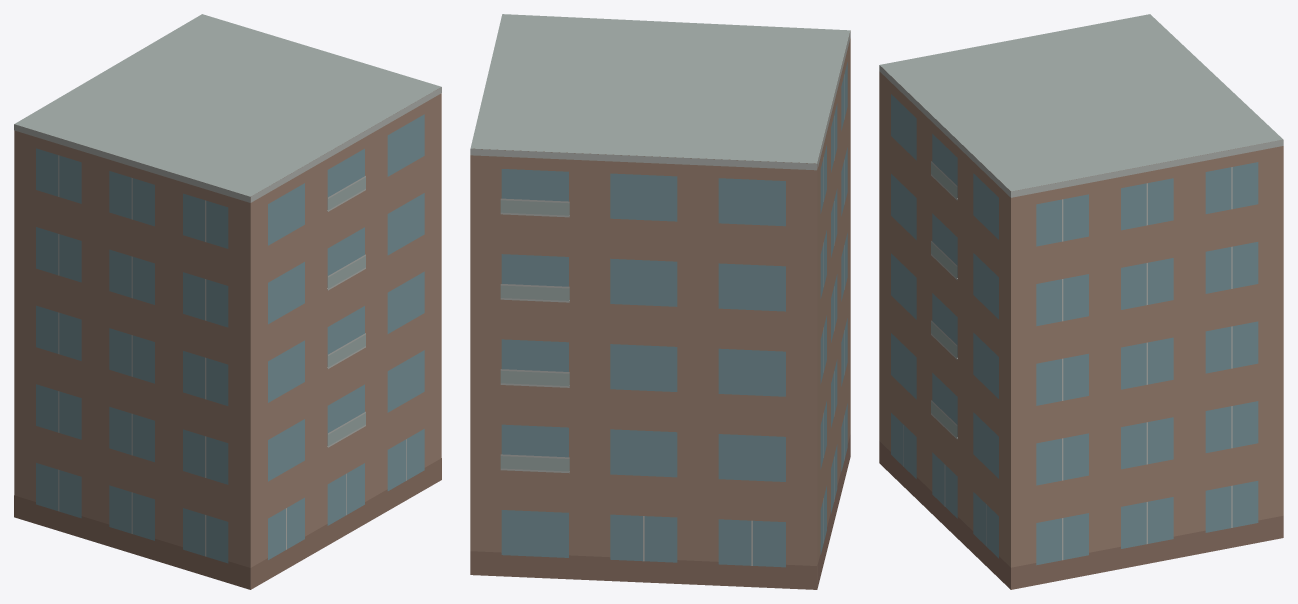
File: survey-upis-32599113.glb
The picture shows the model from 3 angles, left to right: view 1: azimuth 30°, elevation 25°; view 2: azimuth 150°, elevation 25°; view 3: azimuth 270°, elevation 25°; orthographic projection. The views are drawn at different scales.
Visible parts, largest first — view 1: survey-upis-32599113.tmp; view 2: survey-upis-32599113.tmp; view 3: survey-upis-32599113.tmp.
Part boxes in pixels (x1,y1,x2,y2): survey-upis-32599113.tmp: (14,14,441,589); survey-upis-32599113.tmp: (470,14,850,589); survey-upis-32599113.tmp: (879,14,1283,589).
Bounding box in the file's own units: 14.68 × 15.35 × 14.12.
